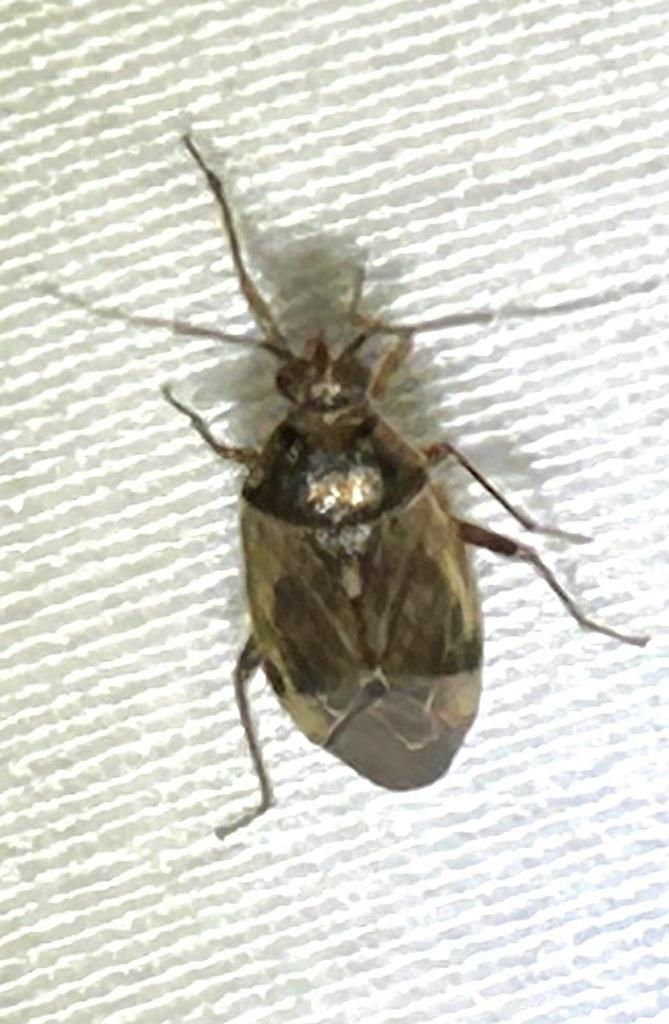plant_bugs: (0, 88, 669, 950)
